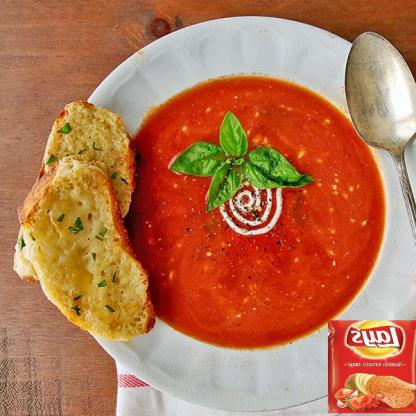tangy_tomato: (325, 318, 415, 414)
